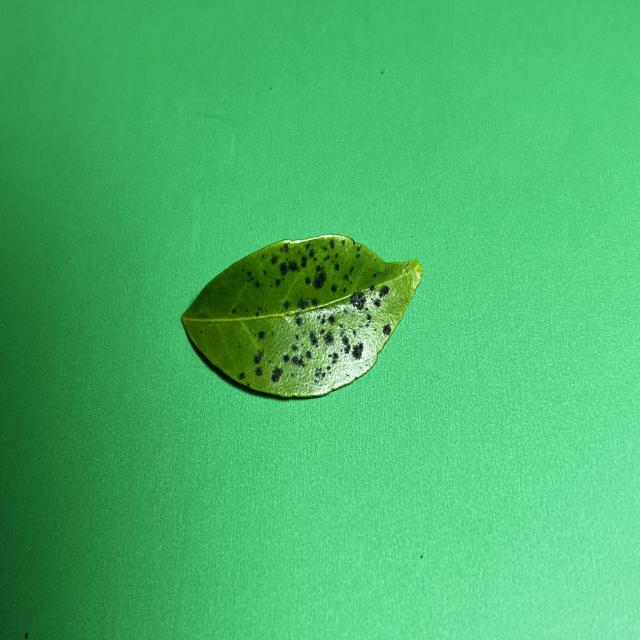sooty_mold: (182, 234, 422, 397)
